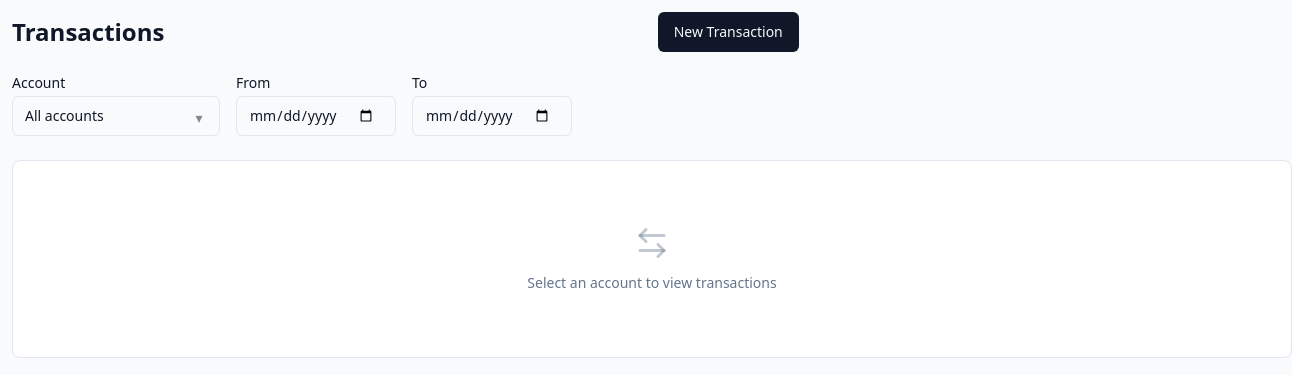
Scenario: Transactions page › renders the transaction table when data resolves
This screenshot has width=1292, height=375.
Click the dropdown labelled "All accounts ▾": point(116, 116) [12, 96, 220, 136]
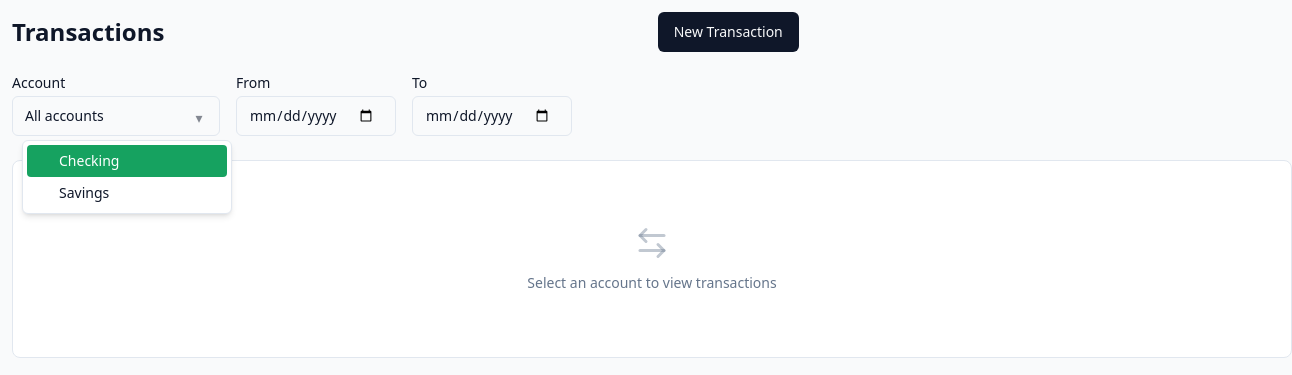
Click the option "Checking": point(127, 161) [27, 145, 227, 177]
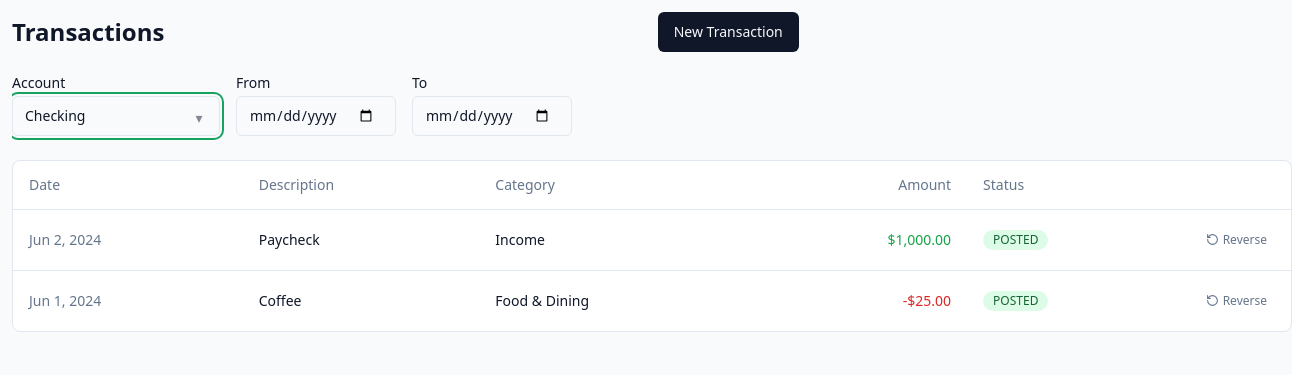
Now the text "Coffee" is shown, box [243, 270, 479, 330]
Now the text "Paycheck" is shown, box [243, 209, 479, 270]
